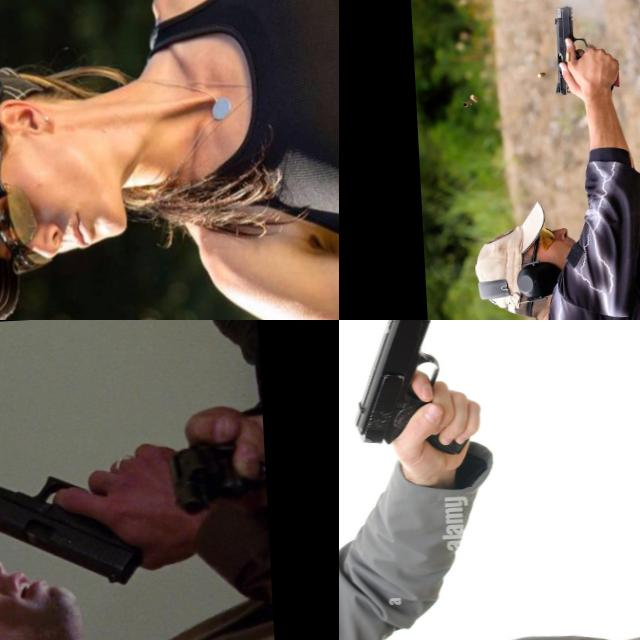handgun: (0, 465, 149, 593), (341, 320, 474, 463), (168, 430, 268, 517), (548, 1, 622, 98)
